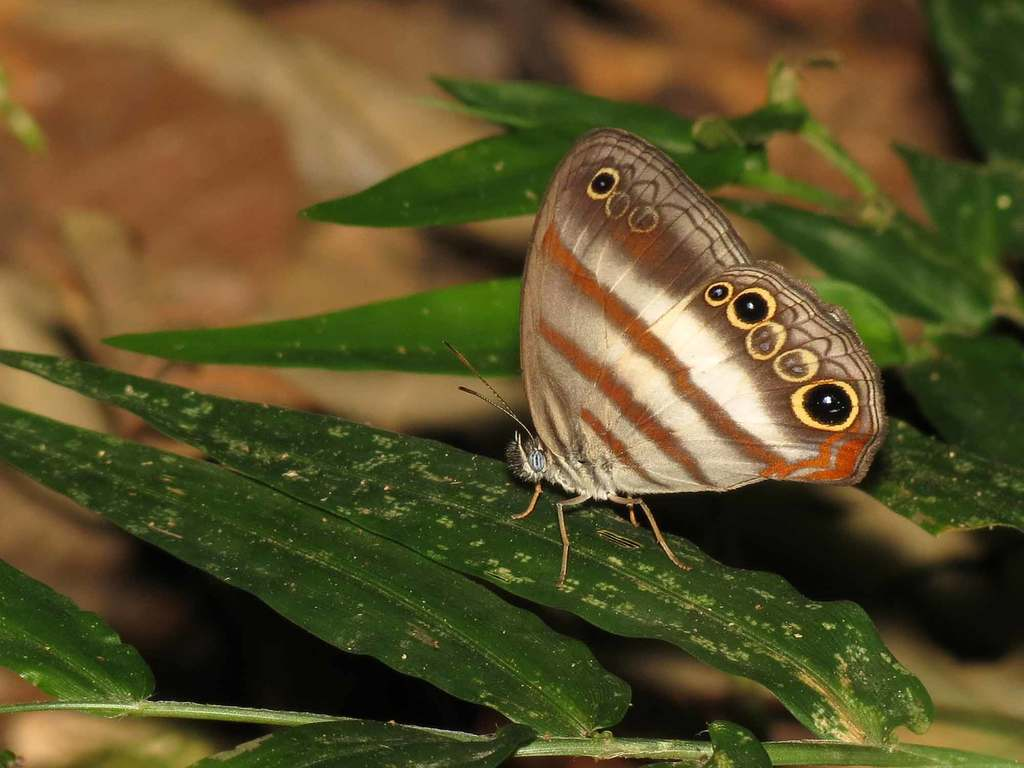Butterfly: (471, 124, 893, 578)
